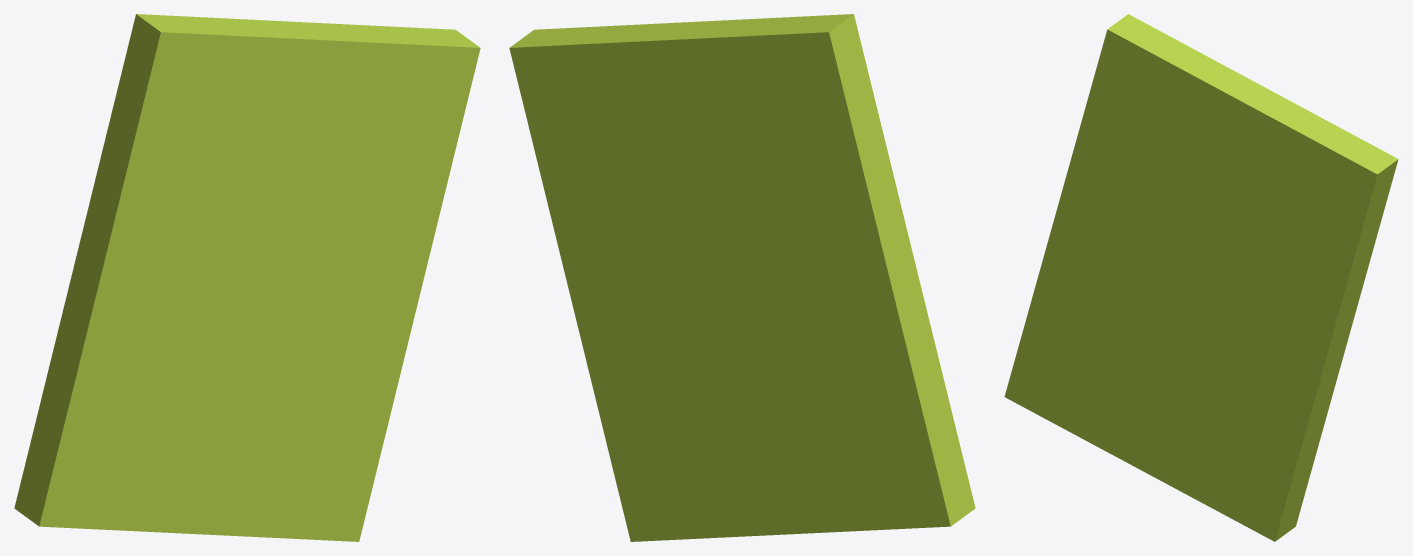
The picture shows the model from 3 angles, left to right: view 1: azimuth 30°, elevation 25°; view 2: azimuth 150°, elevation 25°; view 3: azimuth 330°, elevation 25°; orthographic projection. The views are drawn at different scales.
Parts seen in each view (by area): view 1: osm-way27917482-F-1; view 2: osm-way27917482-F-1; view 3: osm-way27917482-F-1.
Boxes of the visible parts, box(x1,y1,x2,y2) form: osm-way27917482-F-1: box(14, 14, 480, 541); osm-way27917482-F-1: box(509, 14, 975, 541); osm-way27917482-F-1: box(1004, 14, 1398, 541).
Size of the model in its own units: 1.54 by 1.86 by 0.15.
